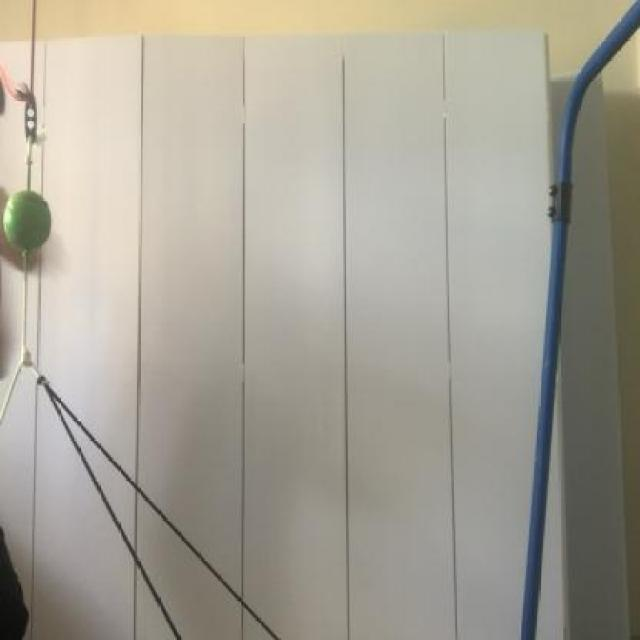baseball: (0, 180, 55, 256)
